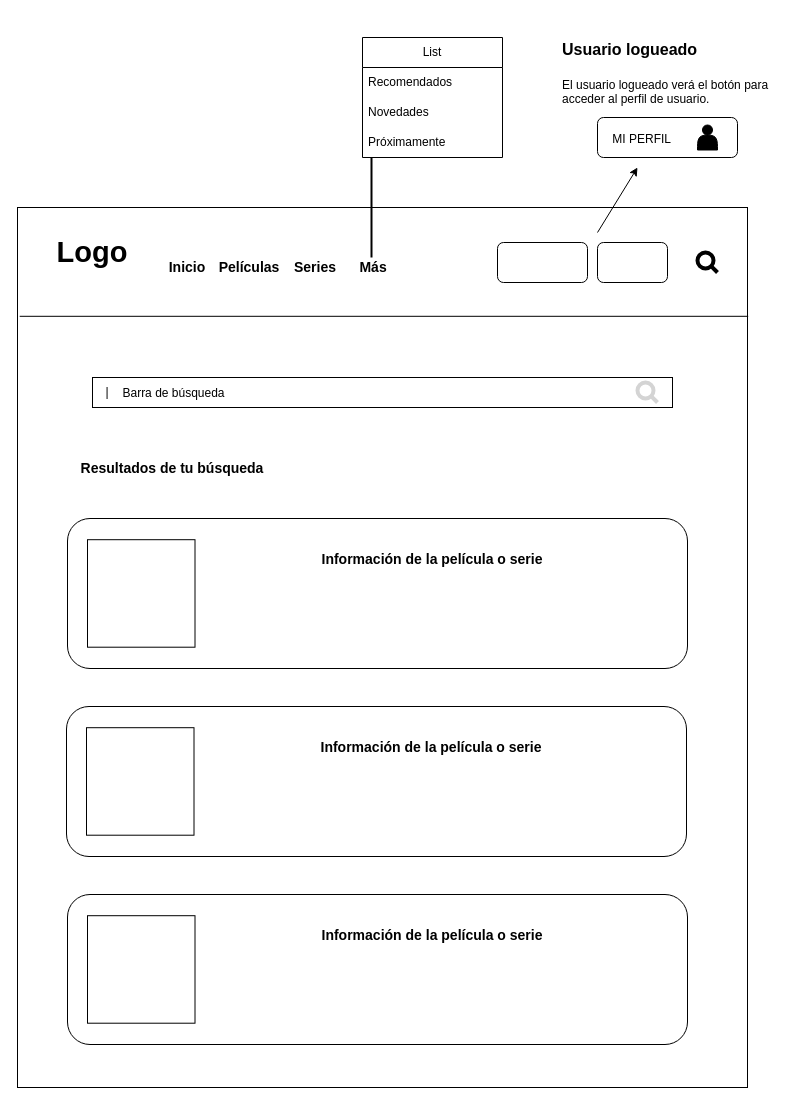
Some shapes in this 805 by 1105 pixel diagram are drawn without their labels. The shapes that lost their labels are listed below. From the top down, each one's centre as x and y in pixels, then its label:
At point 542,262: "SUSCRÍBETE".
At point 632,262: "ENTRA".
